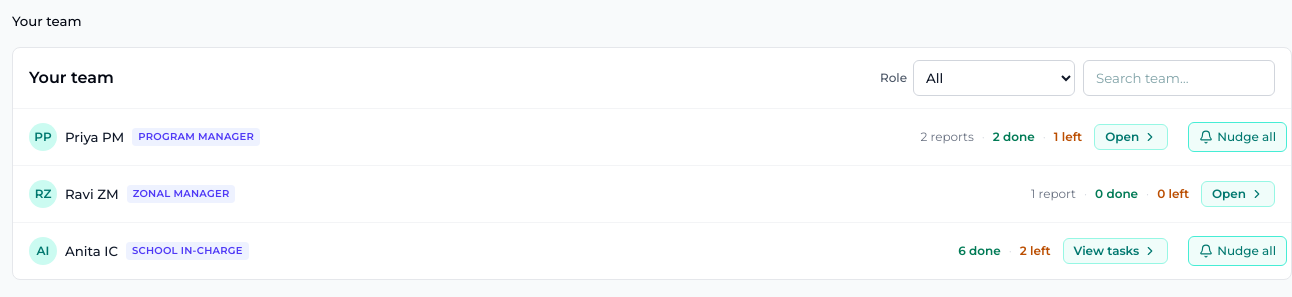
TeamView — by-team drill › opening someone with no reports goes straight to their task list
The width and height of the screenshot is (1292, 297).
Click the button "AI Anita IC School In-Charge 6 done · 2 left View tasks" at (91, 251), box [17, 223, 1180, 279]
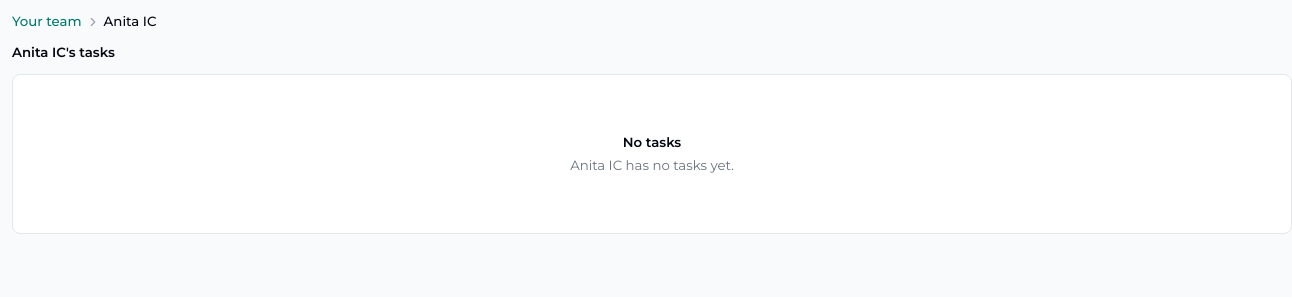
Expected: the heading "Anita IC's tasks" is shown, [12, 43, 115, 62]
